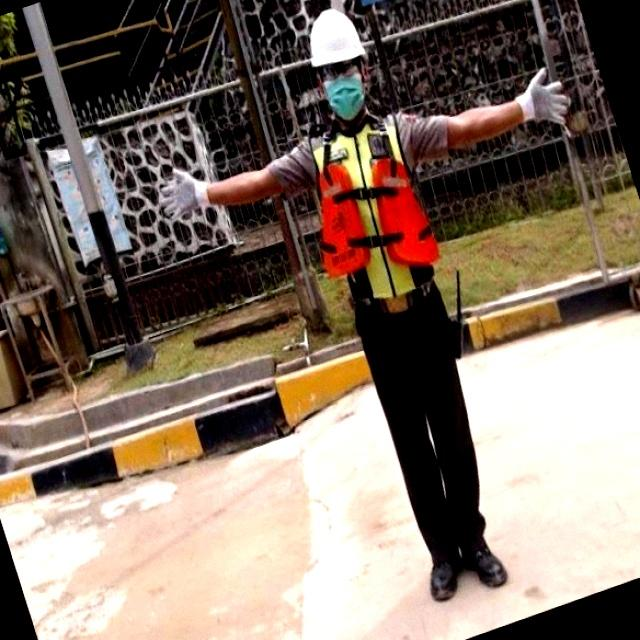helmet: (306, 8, 366, 66)
safety_vest: (306, 112, 446, 311)
